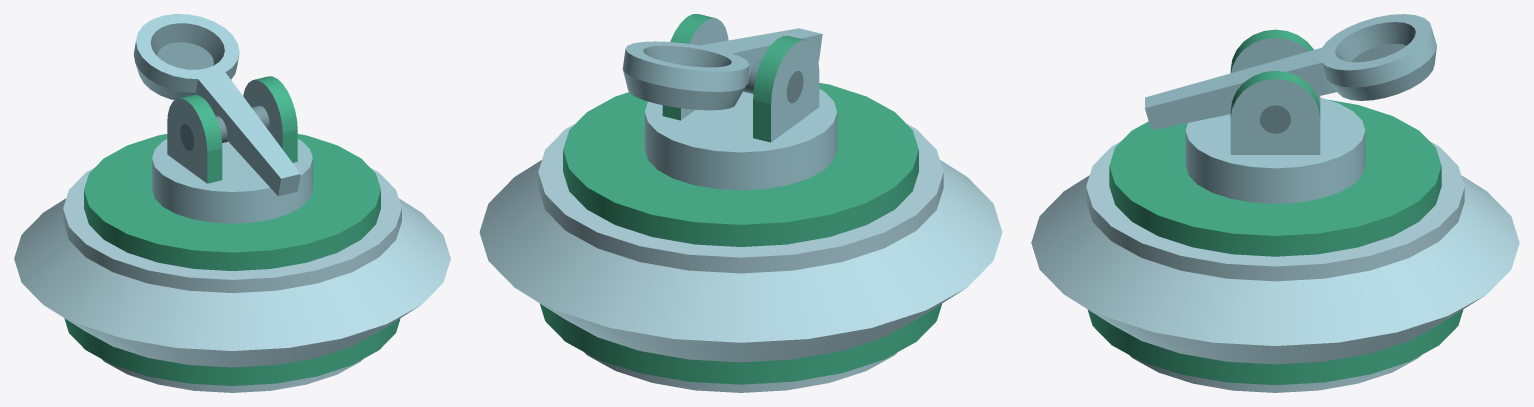
Rendered from enemy_ufoGreenWeapon.dae.
3 views of the same model, side by side, from view 1: azimuth 30°, elevation 25°; view 2: azimuth 150°, elevation 25°; view 3: azimuth 270°, elevation 25° (orthographic). The views are drawn at different scales.
Visible parts, largest first — view 1: enemy_ufoGreenWeapon, catapult; view 2: enemy_ufoGreenWeapon, catapult; view 3: enemy_ufoGreenWeapon, catapult.
Part boxes in pixels (bbox=[...]): enemy_ufoGreenWeapon: bbox=[14, 76, 450, 392]; catapult: bbox=[133, 14, 300, 196]; enemy_ufoGreenWeapon: bbox=[479, 14, 1002, 392]; catapult: bbox=[622, 28, 822, 110]; enemy_ufoGreenWeapon: bbox=[1031, 29, 1519, 392]; catapult: bbox=[1145, 14, 1436, 130].
Size of the model in its own units: 1 by 0.6652 by 1.
